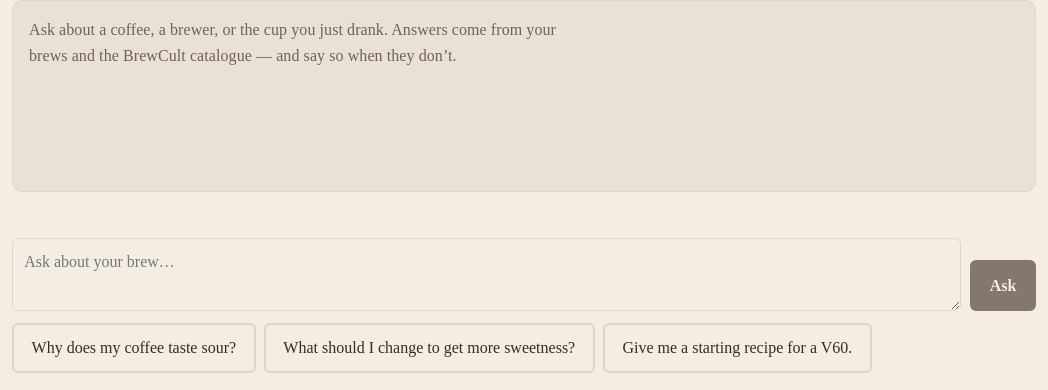
it: assistant chat › streams an answer into the transcript in order
Step 1. Type "why is my coffee sour?" into the text box named "Ask the brew assistant" → (486, 275), box [12,238,960,311]
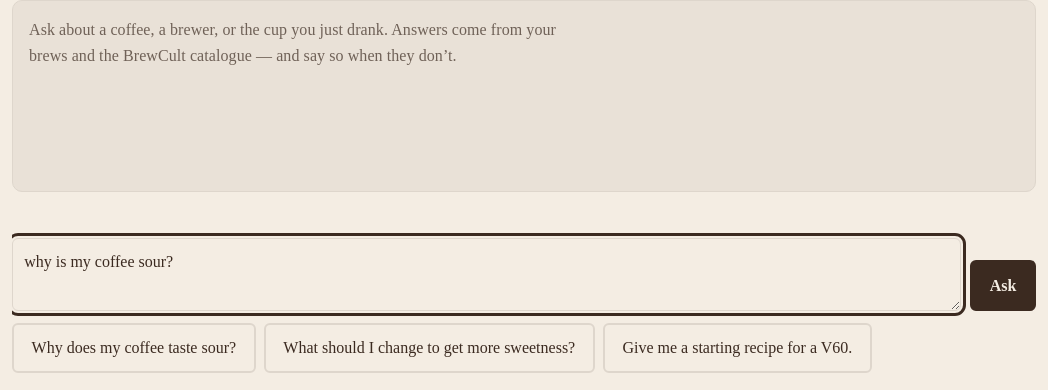
Step 2. Click the button "Ask" → (1003, 286), box [970,260,1036,311]
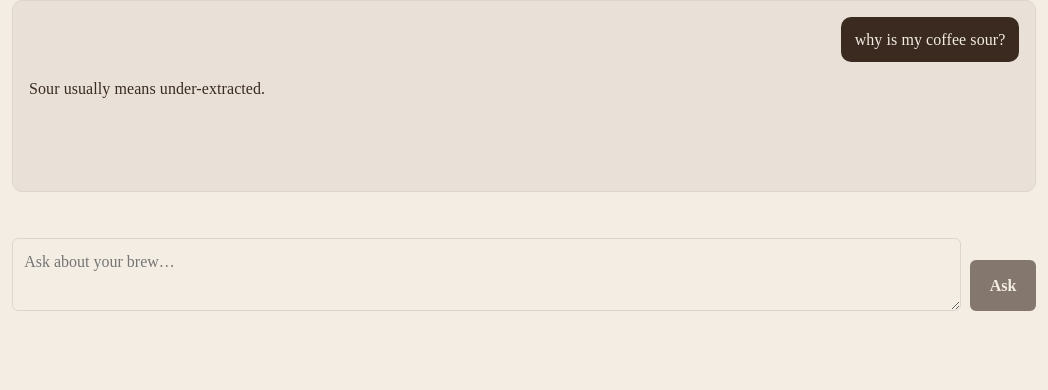
Expected: the text "Sour usually means under-extracted." is shown, [29,80,265,97]
